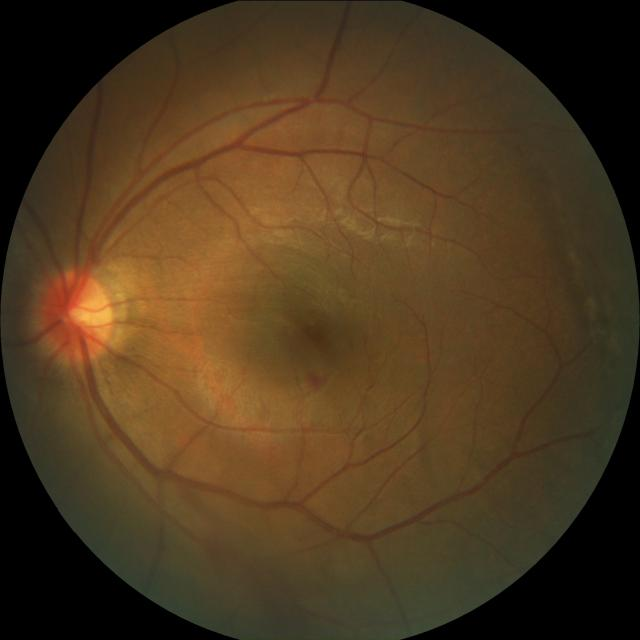OC: (62, 295, 101, 340)
OD: (43, 269, 114, 361)
